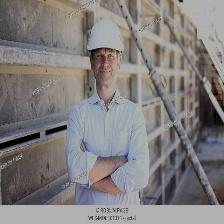Person: (49, 20, 160, 205)
helmet: (87, 16, 125, 57)
no-vest: (66, 87, 152, 205)
